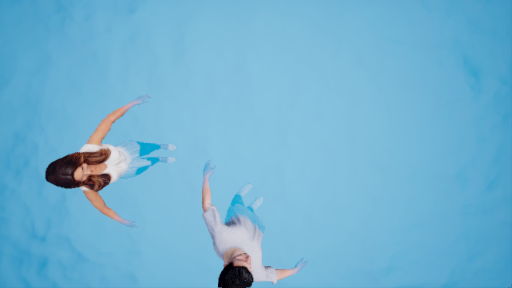person: (46, 93, 185, 227), (199, 159, 316, 288)
